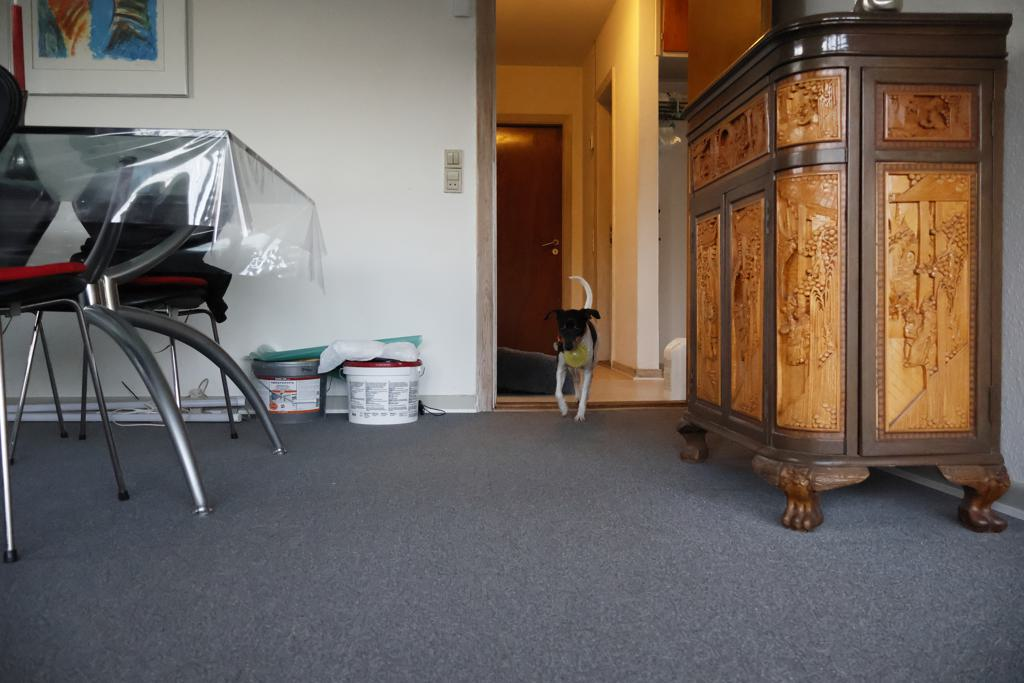Dog: (540, 272, 606, 429)
